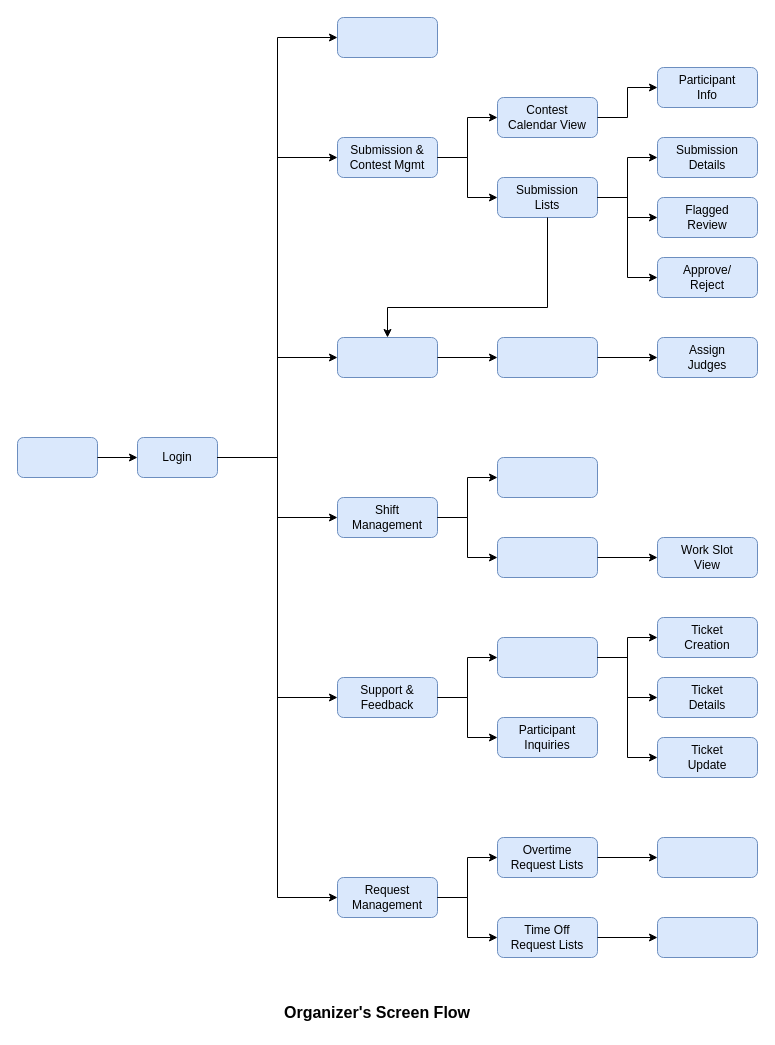
Image size: 775x1045. Some labels were removed from this diagram. The shapes that lost their labels are listed below. From the top down, each one's centre as x and y in pixels, then its label:
(x=387, y=37): Settings
(x=387, y=357): Judging Coordination
(x=547, y=357): Judging Schedule List
(x=57, y=457): Home
(x=547, y=477): Shift Calendar
(x=547, y=557): My Registration
(x=547, y=657): Support Tickets
(x=707, y=857): Overtime Request Creates
(x=707, y=937): Time Off Request Creates
